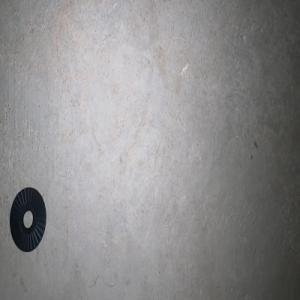Washer: (9, 187, 46, 251)
